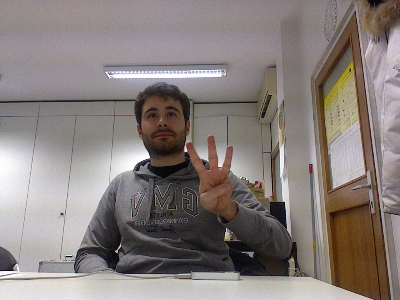三分: (185, 133, 233, 215)
